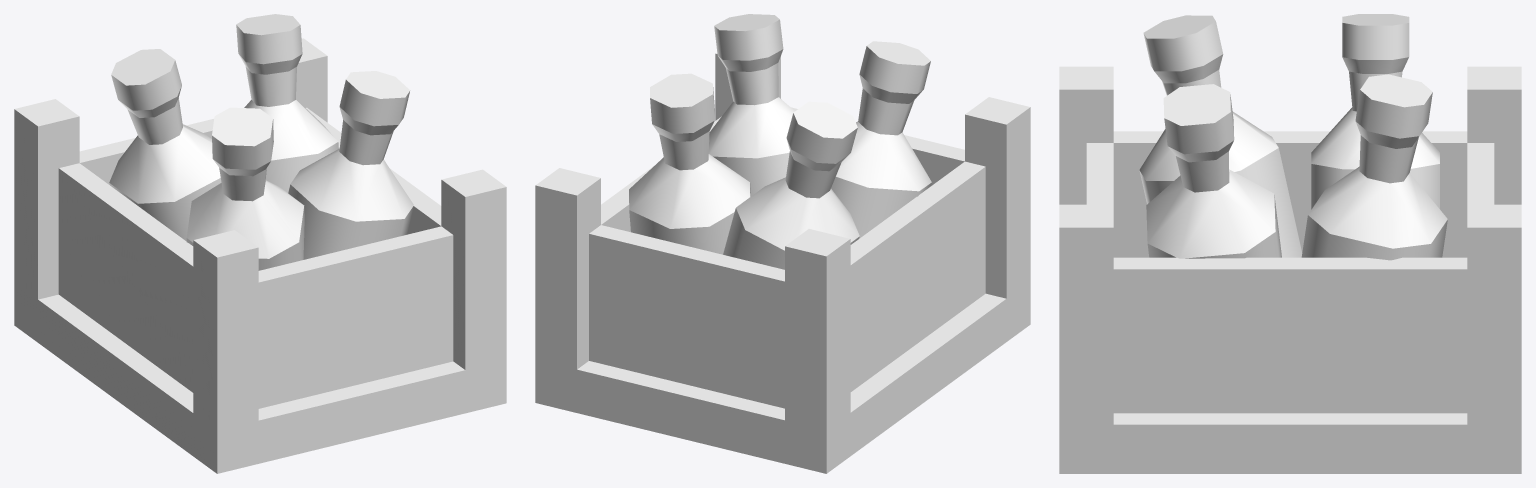
File: crate-bottles.glb
3 views of the same model, side by side, from view 1: azimuth 30°, elevation 25°; view 2: azimuth 150°, elevation 25°; view 3: azimuth 270°, elevation 25° (orthographic). The views are drawn at different scales.
Visible parts, largest first — view 1: crate-bottles; view 2: crate-bottles; view 3: crate-bottles.
Part boxes in pixels (left/top/right/bottom): crate-bottles: left=14, top=14, right=506, bottom=473; crate-bottles: left=535, top=14, right=1030, bottom=473; crate-bottles: left=1059, top=14, right=1521, bottom=473.
Size of the model in its own units: 1.08 by 1.06 by 1.31.
Materials: 1 (1 with a texture image).
